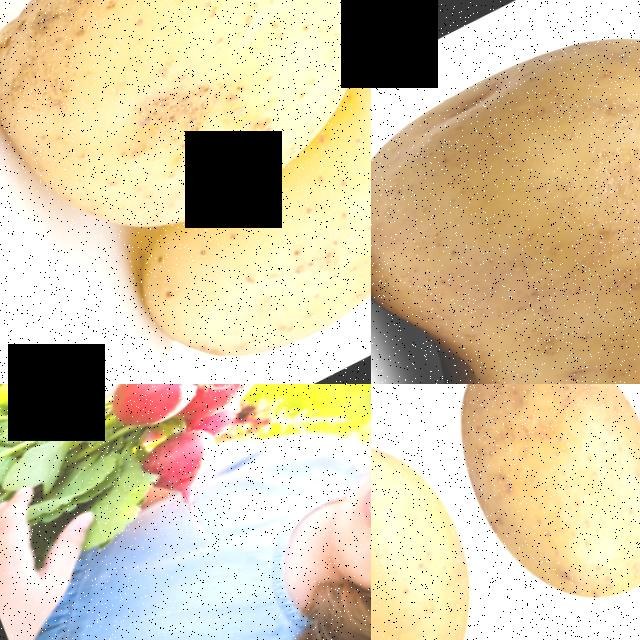potato: (0, 0, 371, 287), (371, 0, 640, 384), (111, 60, 371, 384), (410, 384, 640, 640), (371, 391, 541, 640)
radishes: (0, 384, 324, 552)
